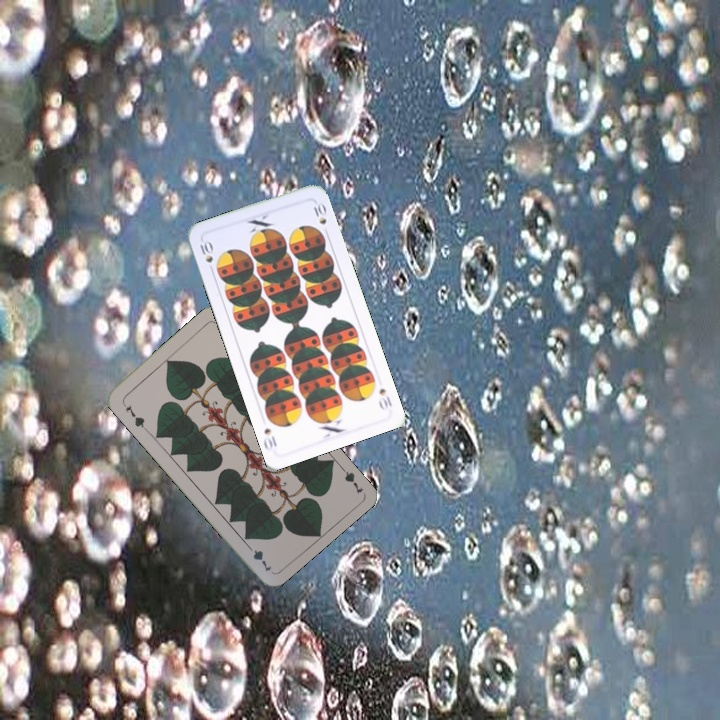G7: (335, 460, 366, 497), (119, 398, 149, 432)
S10: (196, 236, 216, 276), (374, 384, 395, 413)
